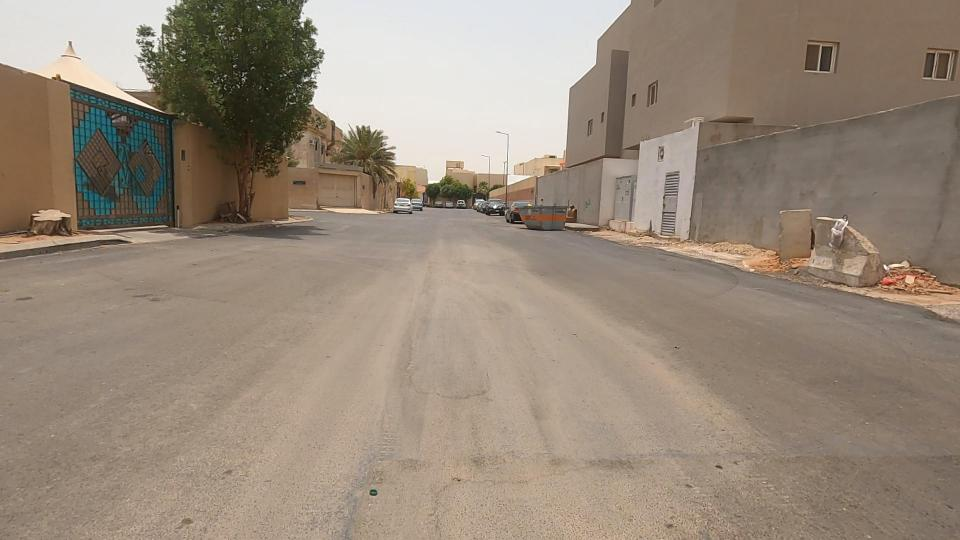GARBAGE: (855, 230, 943, 320), (801, 187, 873, 275)
